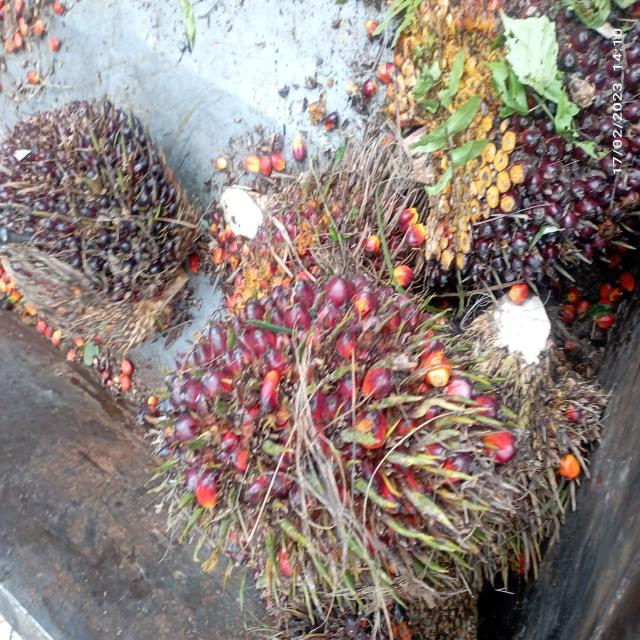fraksi 00: (408, 0, 640, 301), (2, 90, 224, 351)
fraksi 1: (146, 212, 546, 630)
